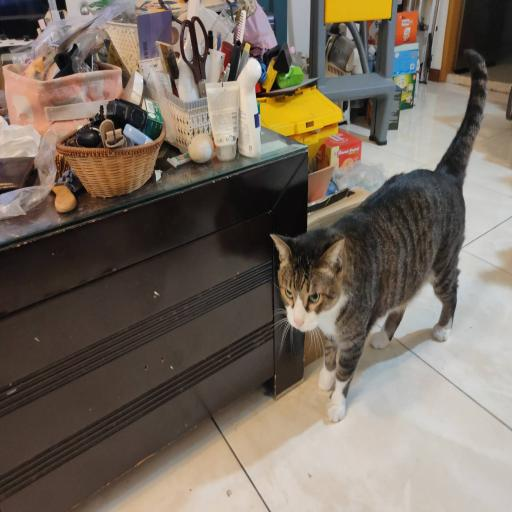cat: (274, 140, 470, 424)
